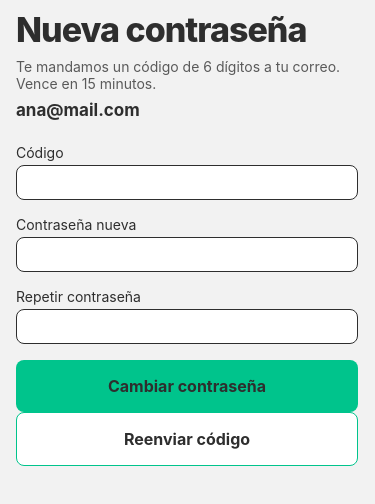
Test case: RestablecerScreen › CODIGO_INVALIDO se muestra bajo "Código"
Type "123456" into the field named "Código" at x=187, y=182, box left=33, top=166, right=341, bottom=199
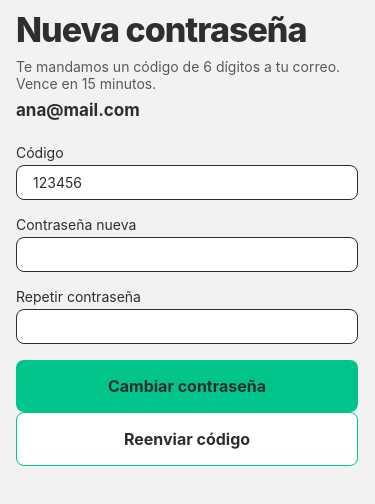
Type "Clave123" into the password field named "Contraseña nueva" at x=187, y=254, box left=33, top=238, right=341, bottom=271
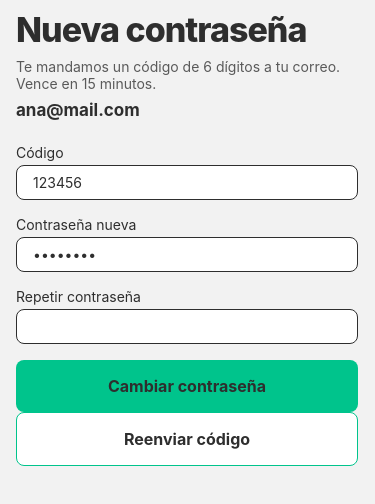
Type "Clave123" into the password field named "Repetir contraseña" at x=187, y=326, box left=33, top=310, right=341, bottom=343
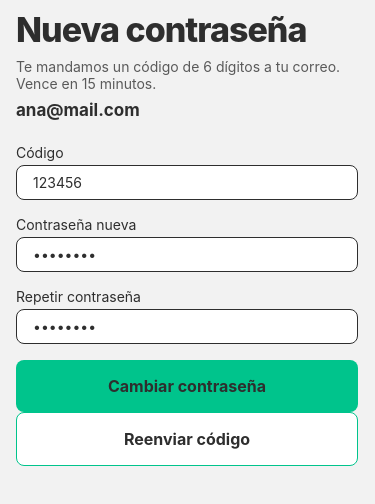
Click the button "Cambiar contraseña" at x=187, y=386, box left=16, top=360, right=358, bottom=412
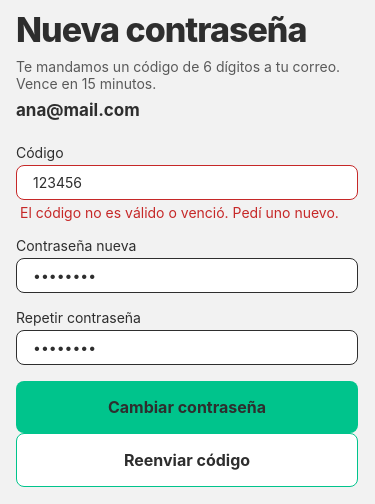
expect the text "El código no es válido o venció. Pedí uno nuevo." is shown: met, box left=20, top=204, right=358, bottom=221
